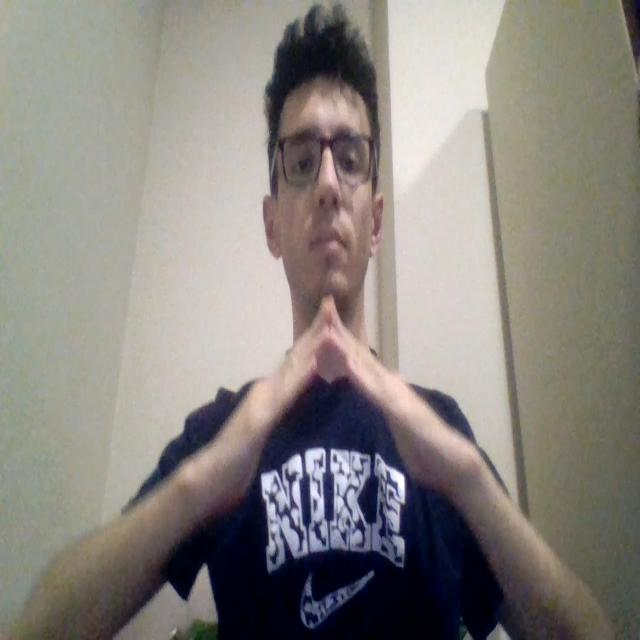house: (211, 300, 464, 498)
